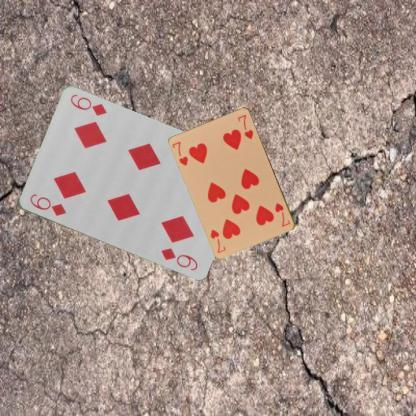6d: (26, 191, 68, 218)
7h: (170, 139, 190, 168), (273, 199, 291, 228)
